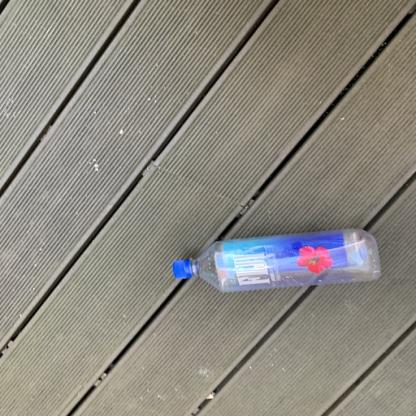trash: (163, 230, 389, 294)
